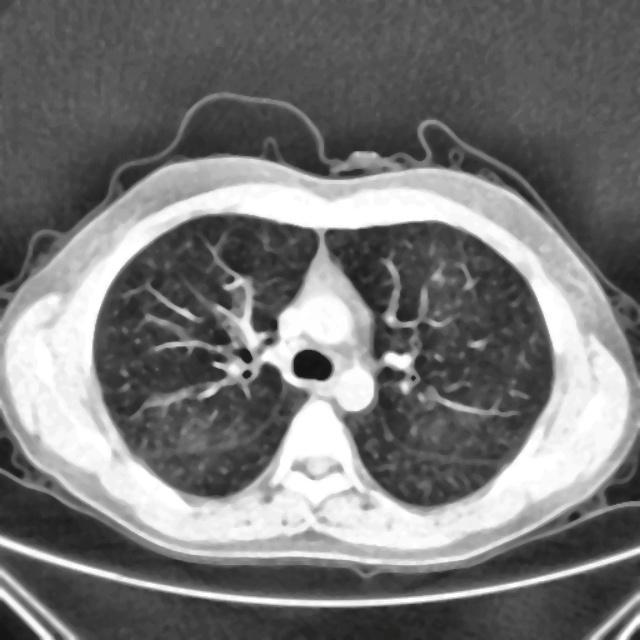covid: (0, 94, 639, 578)
